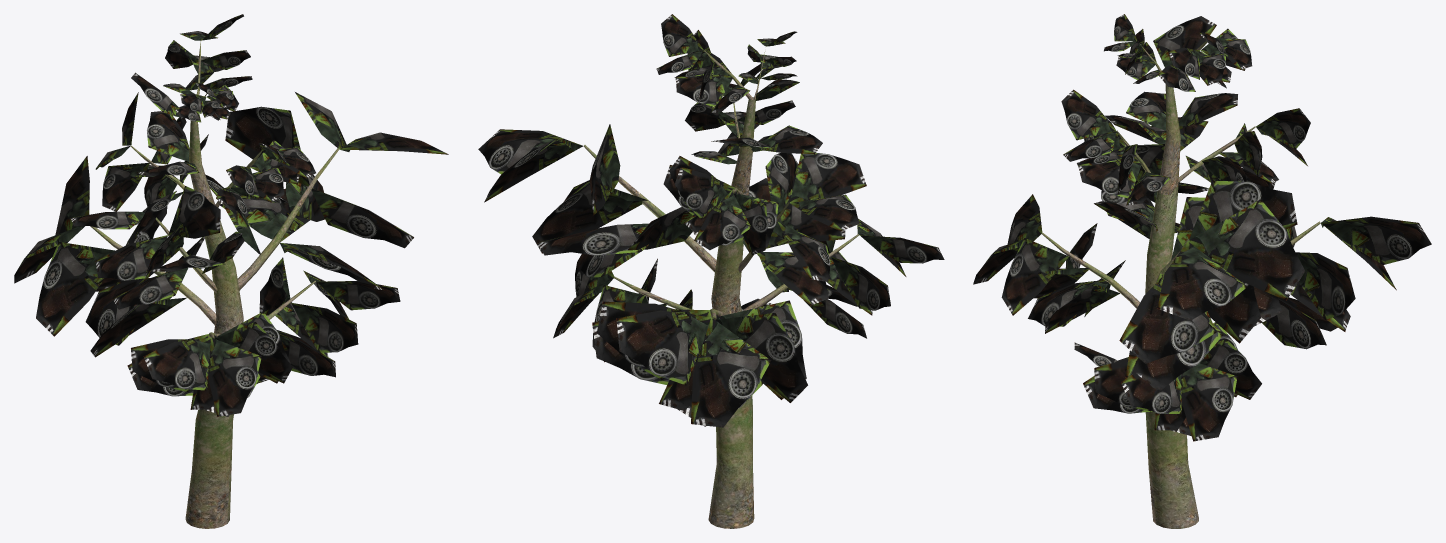
The model's file is hrast_zuti.glb.
The picture shows the model from 3 angles, left to right: view 1: azimuth 30°, elevation 25°; view 2: azimuth 150°, elevation 25°; view 3: azimuth 270°, elevation 25°; orthographic projection. The views are drawn at different scales.
Parts seen in each view (by area): view 1: Oak_Yellow_1_aiStandardSurface4_0, Oak_Yellow_1_aiStandardSurface2_0; view 2: Oak_Yellow_1_aiStandardSurface4_0, Oak_Yellow_1_aiStandardSurface2_0; view 3: Oak_Yellow_1_aiStandardSurface4_0, Oak_Yellow_1_aiStandardSurface2_0.
Part boxes in pixels (<box>): Oak_Yellow_1_aiStandardSurface4_0: <box>14,14,448,416</box>; Oak_Yellow_1_aiStandardSurface2_0: <box>90,40,339,528</box>; Oak_Yellow_1_aiStandardSurface4_0: <box>478,14,944,427</box>; Oak_Yellow_1_aiStandardSurface2_0: <box>583,50,858,528</box>; Oak_Yellow_1_aiStandardSurface4_0: <box>973,14,1431,441</box>; Oak_Yellow_1_aiStandardSurface2_0: <box>1041,41,1320,528</box>.
Size of the model in its own units: 471 by 591 by 482.
2 materials, 2 textured.
